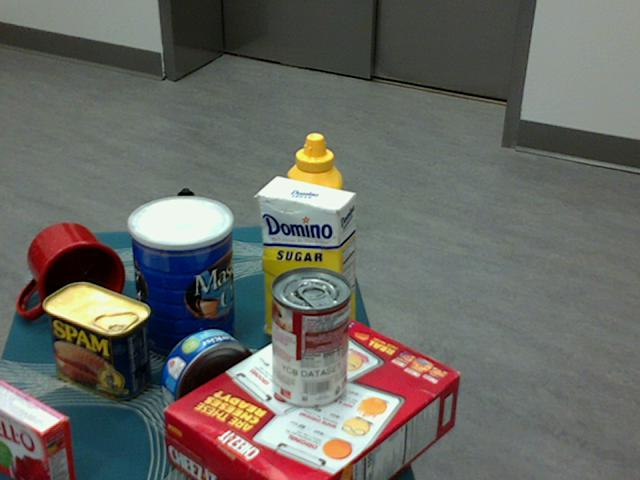cracker_box: (164, 310, 460, 479)
gelatin_box: (0, 377, 75, 479)
large_marker: (178, 188, 197, 285)
master_chef_can: (127, 196, 234, 363)
mug: (20, 222, 124, 321)
mustard_bottle: (284, 133, 340, 309)
potted_meat_can: (42, 280, 149, 399)
sugar_box: (258, 175, 355, 358)
tomato_soup_can: (269, 268, 350, 409)
tuna_fish_can: (160, 329, 256, 426)
